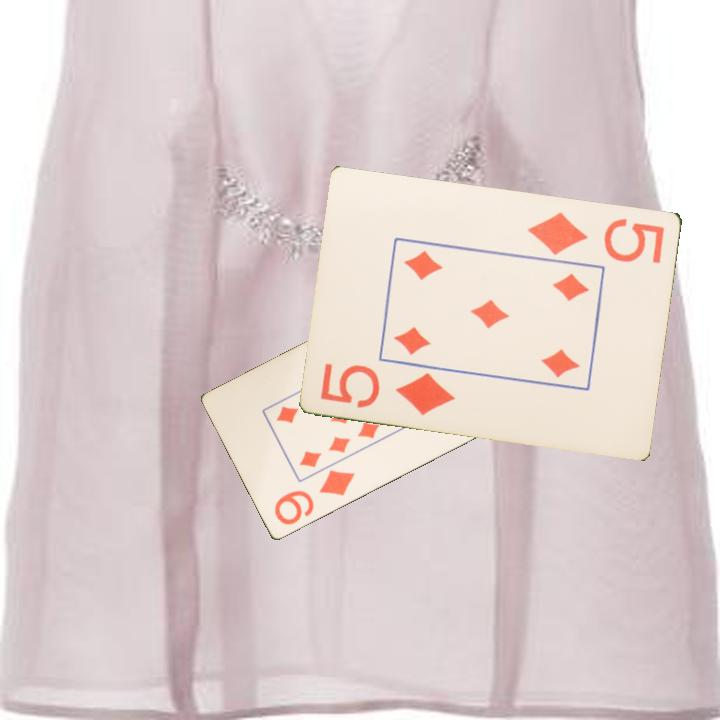5d: (524, 207, 668, 266), (317, 359, 458, 418)
9d: (270, 467, 358, 528)
